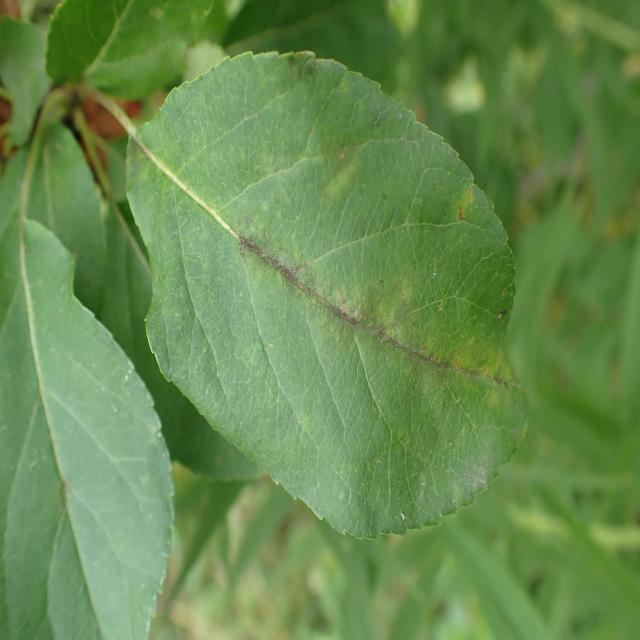scab: (120, 79, 544, 446)
